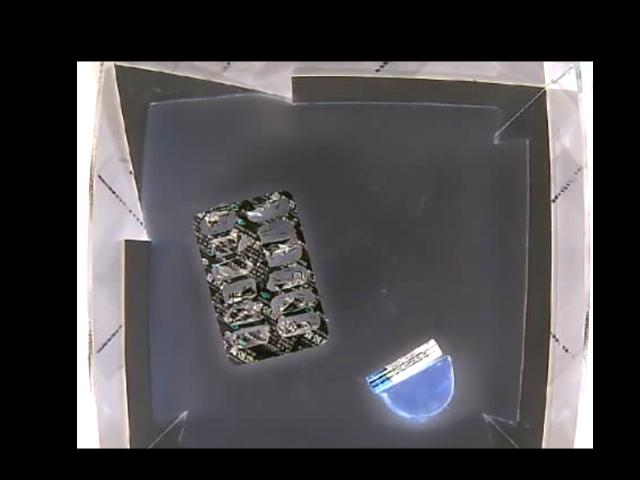Battery: (360, 341, 439, 392)
Medicine: (191, 191, 330, 366)
Potato: (381, 358, 453, 418)
